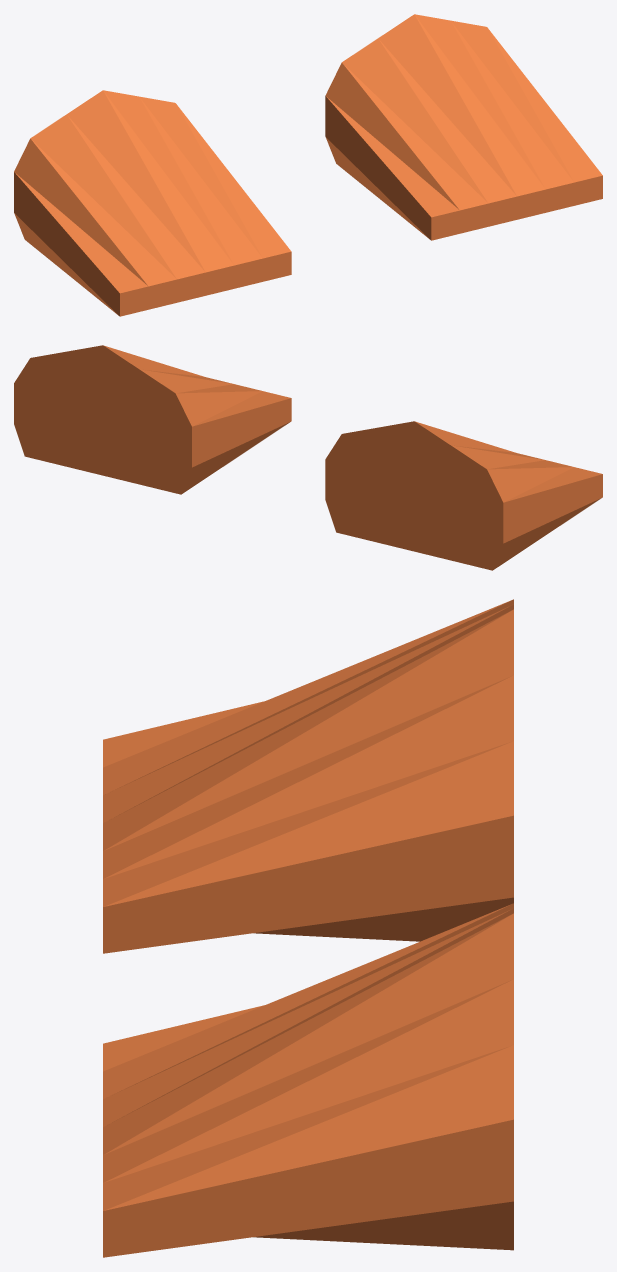
Rendered from long-haul-trucking-and-truck-stop-wheel-chocks-3ba6949f__13984.glb.
The picture shows the model from 3 angles, top to bottom: view 1: azimuth 30°, elevation 25°; view 2: azimuth 150°, elevation 25°; view 3: azimuth 270°, elevation 25°; orthographic projection. The views are drawn at different scales.
Parts seen in each view (by area): view 1: wheel-chocks; view 2: wheel-chocks; view 3: wheel-chocks.
Boxes of the visible parts, x1,y1,x2,y2 form: wheel-chocks: (14,14,602,316); wheel-chocks: (14,345,602,570); wheel-chocks: (103,599,513,1257).
Size of the model in its own units: 1.1 by 0.28 by 0.4001.
